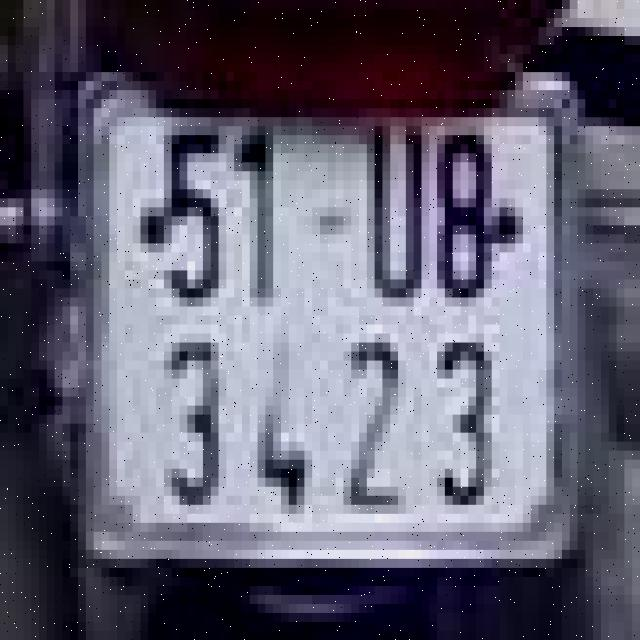1: (242, 117, 289, 325)
2: (347, 315, 410, 523)
3: (152, 324, 230, 514), (426, 333, 496, 523)
4: (254, 329, 316, 518)
5: (144, 122, 230, 320)
8: (441, 117, 496, 316)
U: (347, 117, 433, 316)
